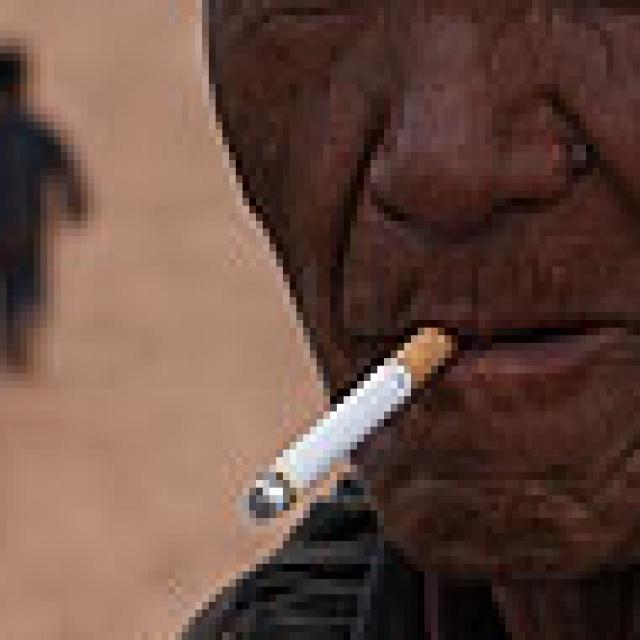smoking: (249, 325, 454, 522)
